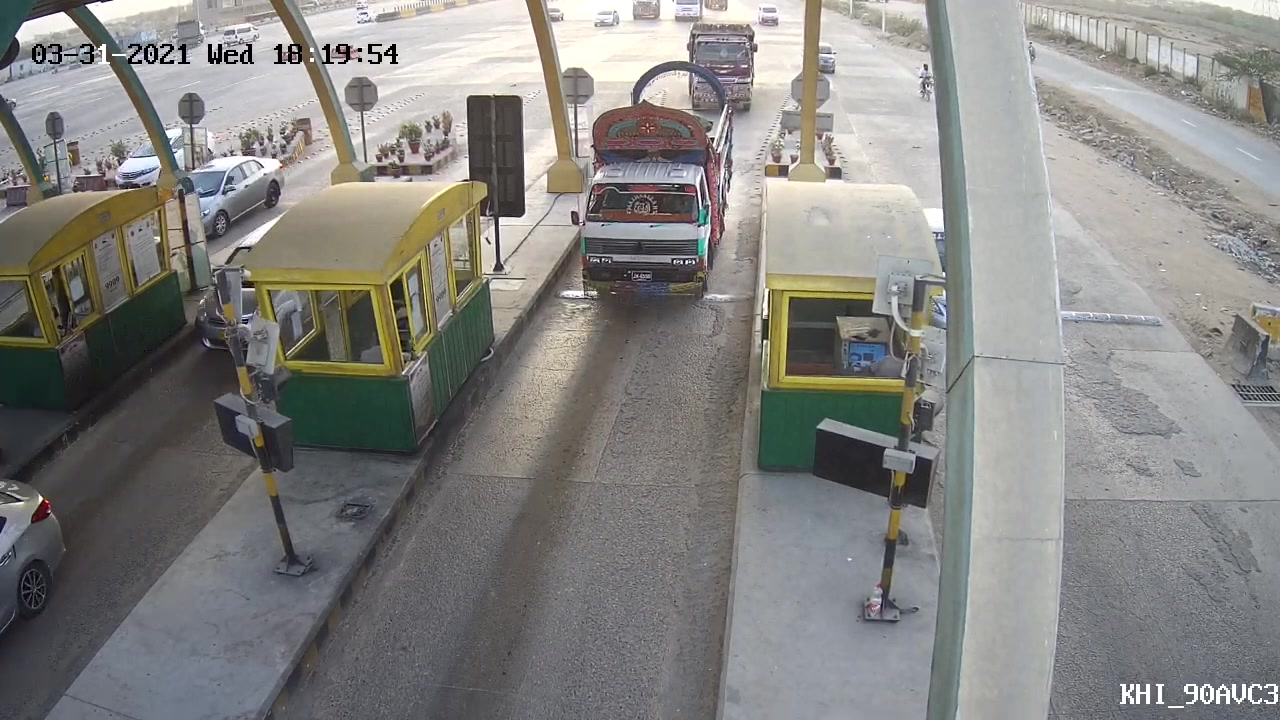F3: (569, 69, 741, 304)
